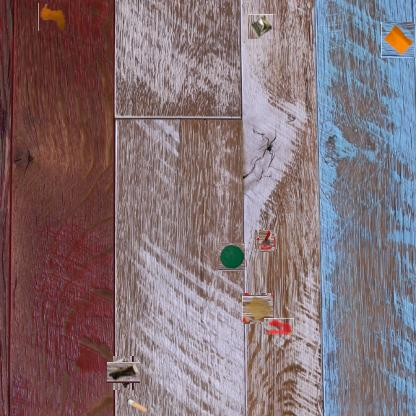dirty: (381, 23, 415, 58), (38, 3, 67, 31), (217, 243, 245, 271), (110, 359, 137, 387), (248, 14, 274, 39), (124, 396, 148, 416), (257, 232, 276, 250)
liquid: (243, 294, 273, 323), (264, 318, 294, 335)
